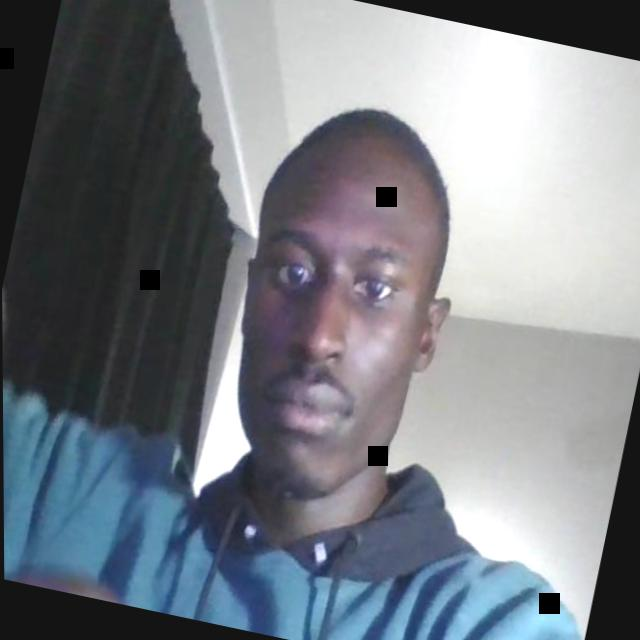NO-Mask: (206, 178, 446, 519)
